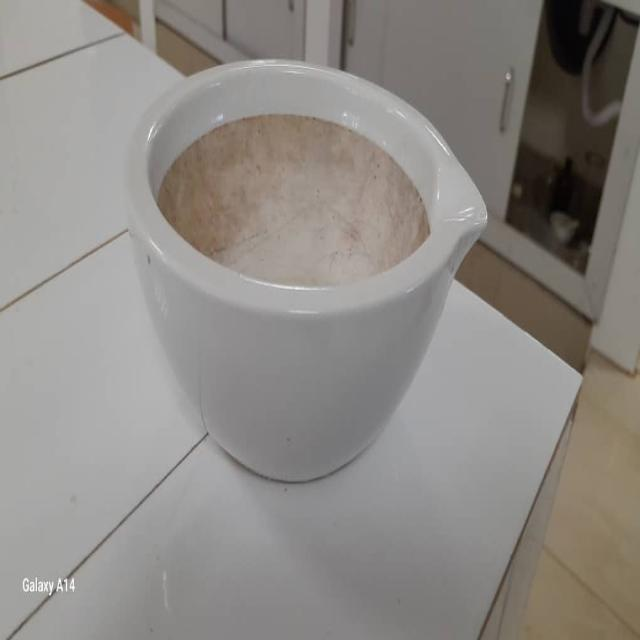Mortar and Pestle: (122, 55, 486, 486)
